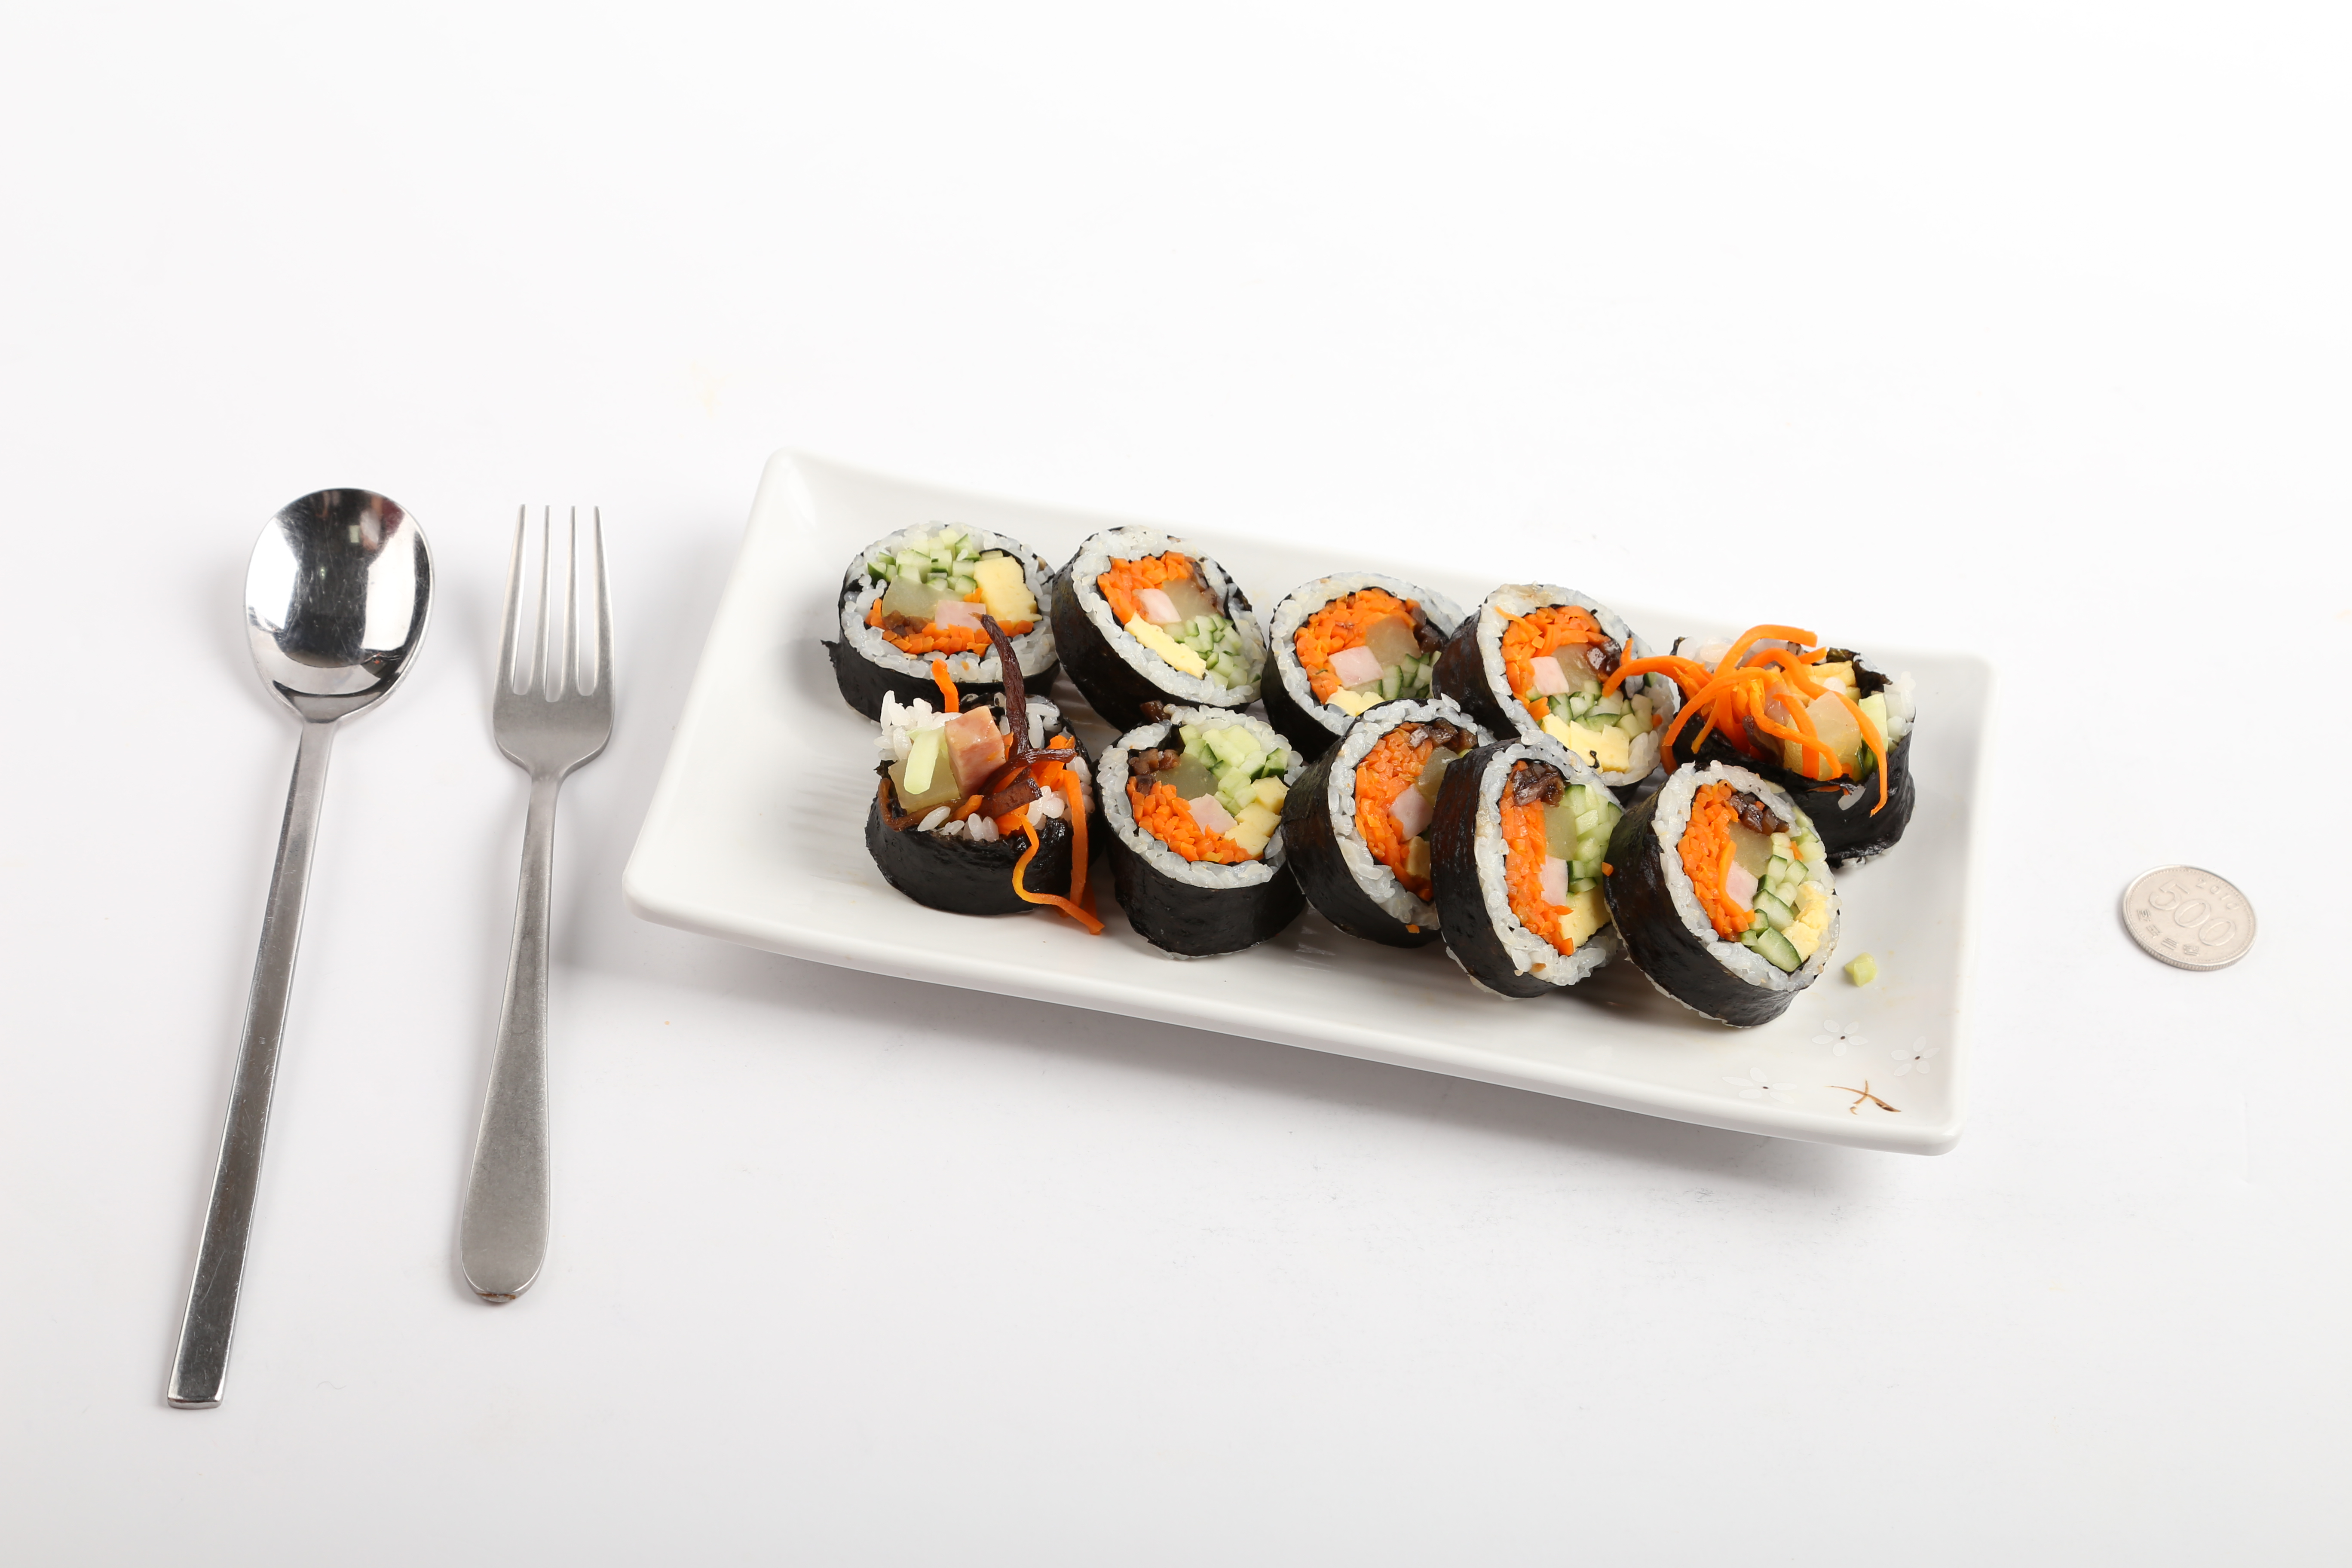dish: (623, 437, 1995, 1206)
ref_coin: (2112, 857, 2263, 980)
ref_fork: (485, 499, 621, 822)
ref_spoon: (238, 476, 439, 772)
김밥: (835, 513, 1916, 1029)
